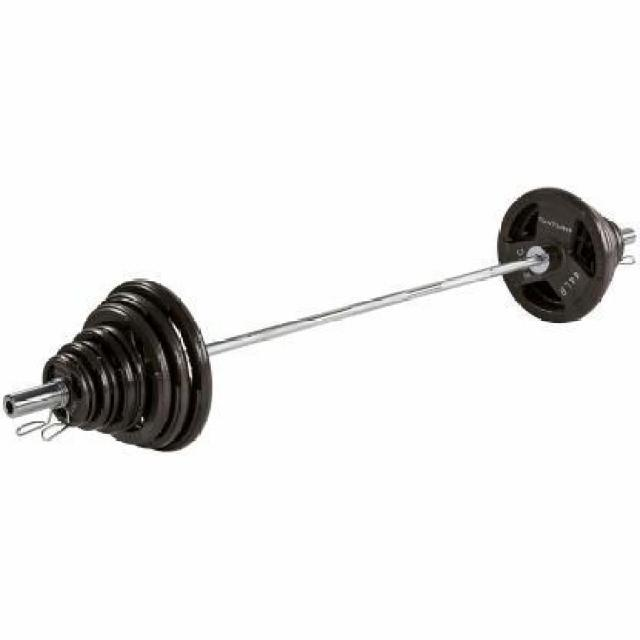Barbell: (2, 386, 27, 428)
